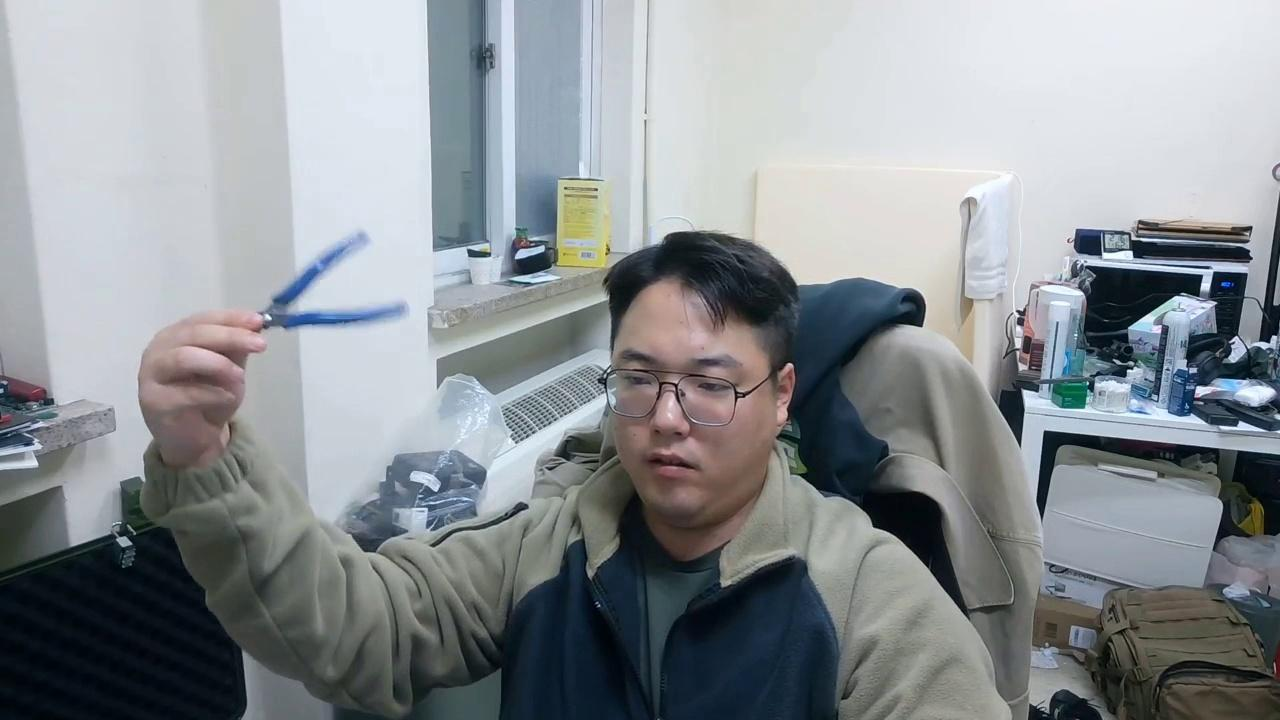blue_pliers: (254, 229, 410, 334)
